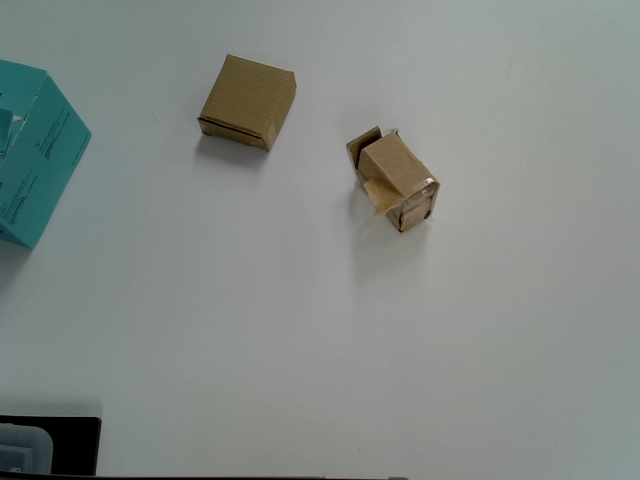defect: (346, 125, 441, 233)
normal: (198, 54, 298, 152)
